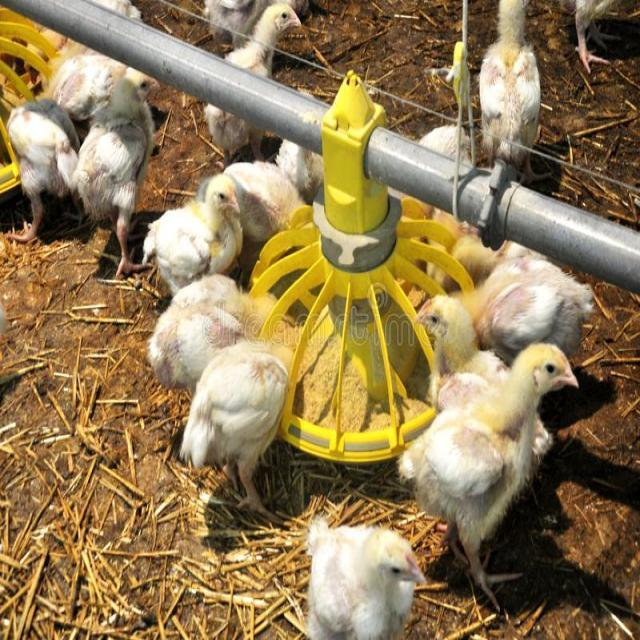poussin: (398, 342, 582, 598), (177, 345, 300, 508), (72, 68, 160, 268), (190, 5, 304, 145), (440, 262, 593, 362), (300, 525, 424, 640), (475, 0, 549, 184), (140, 175, 245, 293), (149, 275, 250, 395), (0, 91, 75, 245), (418, 296, 506, 406), (225, 159, 314, 235)
